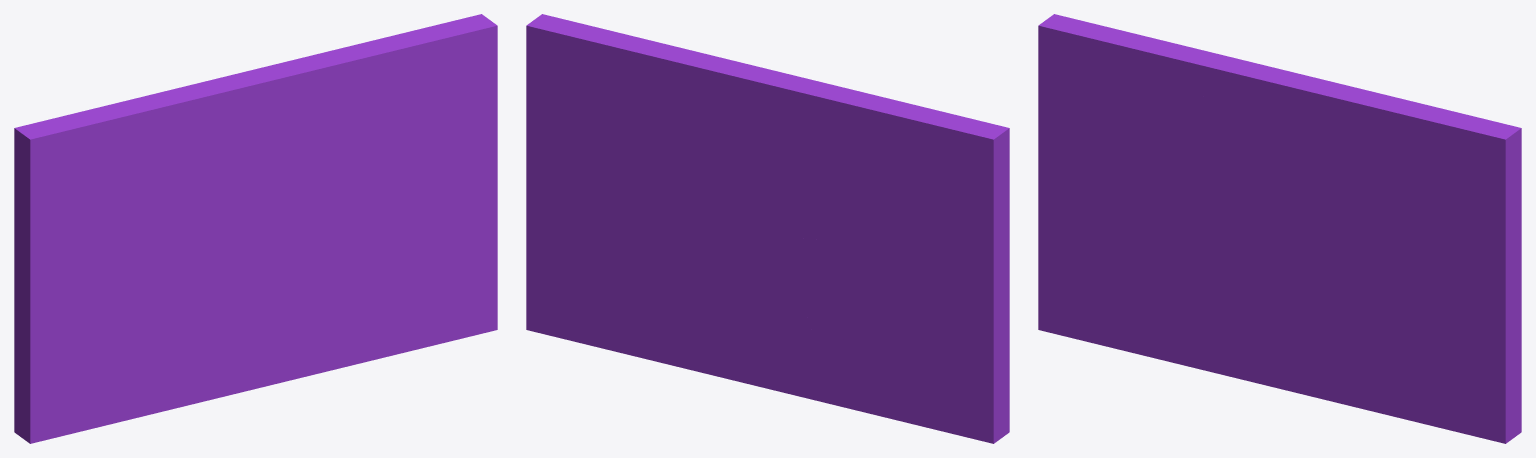
Rendered from Barrier_76_chunks.fbx.
The picture shows the model from 3 angles, left to right: view 1: azimuth 30°, elevation 25°; view 2: azimuth 150°, elevation 25°; view 3: azimuth 330°, elevation 25°; orthographic projection.
Visible parts, largest first — view 1: Barrier_76_1, Barrier_76_6, Barrier_76_3, Barrier_76_0, Barrier_76_9, Barrier_76_5, Barrier_76_2, Barrier_76_8; view 2: Barrier_76_1, Barrier_76_6, Barrier_76_3, Barrier_76_9, Barrier_76_5, Barrier_76_2, Barrier_76_7, Barrier_76_4, Barrier_76_8; view 3: Barrier_76_1, Barrier_76_6, Barrier_76_0, Barrier_76_3, Barrier_76_9, Barrier_76_5, Barrier_76_2, Barrier_76_8.
Part boxes in pixels (x1,y1,x2,y2): Barrier_76_1: (311, 14, 497, 343); Barrier_76_6: (14, 89, 197, 264); Barrier_76_3: (14, 299, 205, 443); Barrier_76_0: (250, 169, 441, 371); Barrier_76_9: (172, 47, 379, 194); Barrier_76_5: (14, 238, 253, 323); Barrier_76_2: (188, 244, 324, 400); Barrier_76_8: (120, 173, 287, 254); Barrier_76_1: (526, 14, 766, 368); Barrier_76_6: (833, 88, 1009, 261); Barrier_76_3: (814, 300, 1009, 443); Barrier_76_9: (659, 43, 845, 205); Barrier_76_5: (764, 233, 1009, 320); Barrier_76_2: (686, 239, 822, 399); Barrier_76_7: (793, 161, 931, 253); Barrier_76_4: (793, 275, 859, 362); Barrier_76_8: (750, 196, 828, 241); Barrier_76_1: (1319, 95, 1521, 443); Barrier_76_6: (1038, 14, 1210, 183); Barrier_76_0: (1259, 192, 1449, 430); Barrier_76_3: (1038, 198, 1213, 372); Barrier_76_9: (1202, 52, 1388, 206); Barrier_76_5: (1038, 151, 1261, 286); Barrier_76_2: (1196, 239, 1332, 401); Barrier_76_8: (1128, 141, 1296, 231).
Bounding box in the file's own units: 462 × 288 × 27.2.
